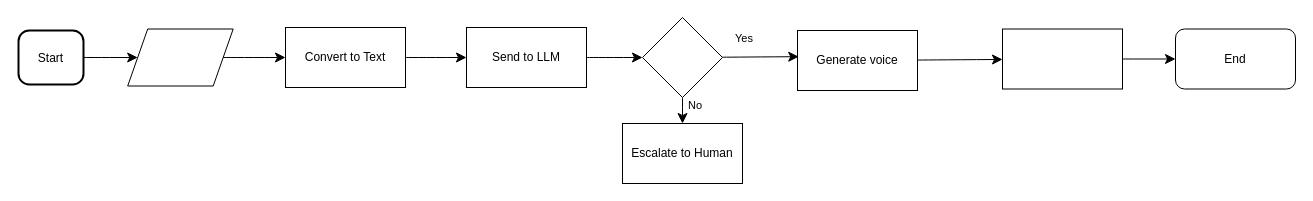
Some shapes in this 1313 by 201 pixel diagram are drawn without their labels. The centre of each missing label's shape, as x and y in pixels:
"Play voice" belongs at (1062,58).
"Record voice" belongs at (180,57).
"Valid response?" belongs at (682,57).
